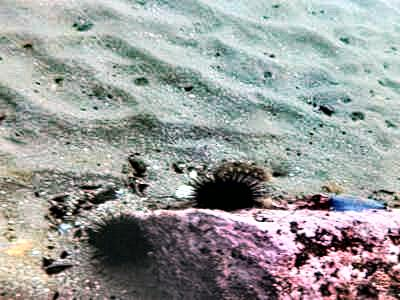urchin: (84, 209, 149, 265), (188, 173, 262, 211)
